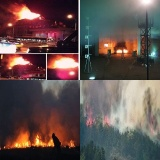fire: (0, 135, 55, 147), (17, 7, 41, 20), (54, 57, 77, 69), (10, 57, 30, 67), (86, 109, 95, 128), (150, 116, 158, 136), (104, 113, 114, 129), (60, 139, 76, 147), (116, 46, 128, 54)
